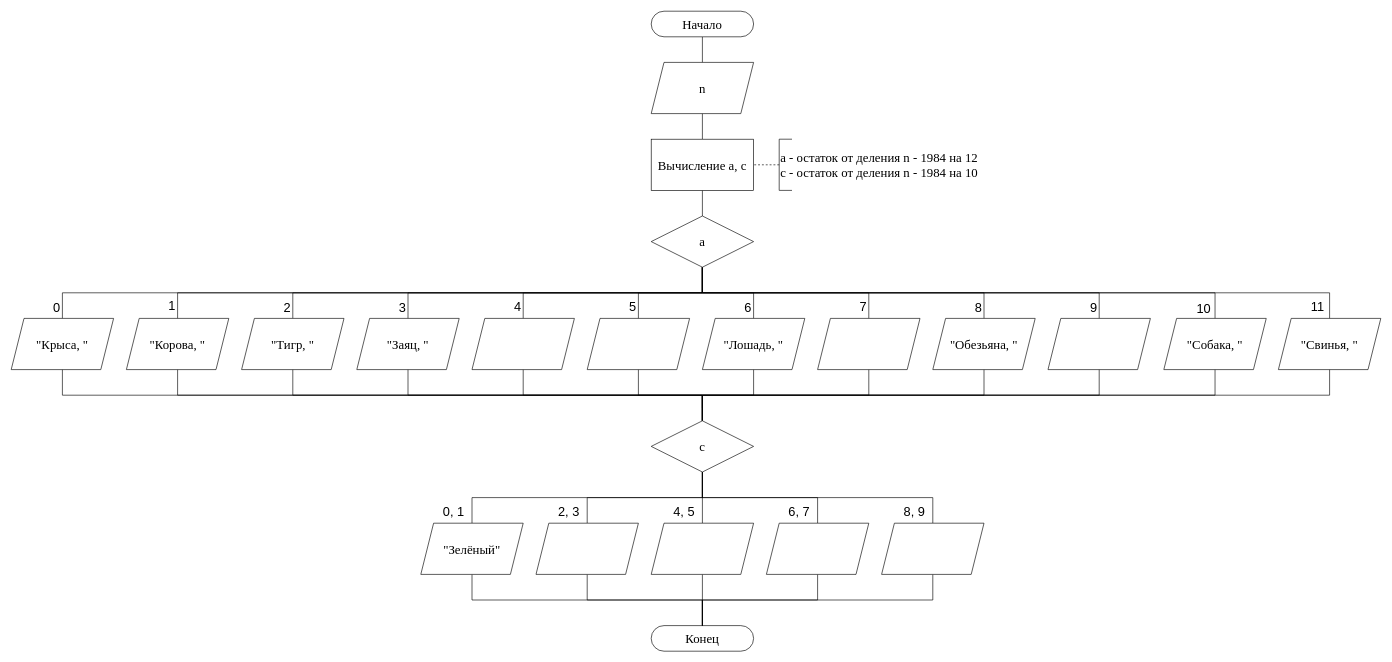
This 1392x662 diagram has some shape labels left out. The centre of each missing label's shape, as x and y in pixels:
"Белый": point 817,548
"Дракон, ": point 522,344
"Жёлтый": point 702,548
"Змея, ": point 638,344
"Красный": point 586,548
"Овца, ": point 868,344
"Петух, ": point 1098,344
"Чёрный": point 932,548
